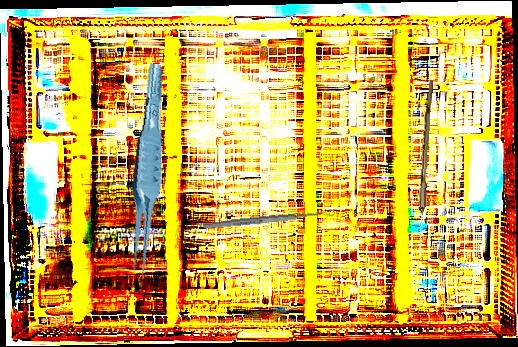Surgical Spoon: (415, 79, 434, 259), (202, 208, 336, 231)
Tissue Forceps: (114, 62, 180, 284)
